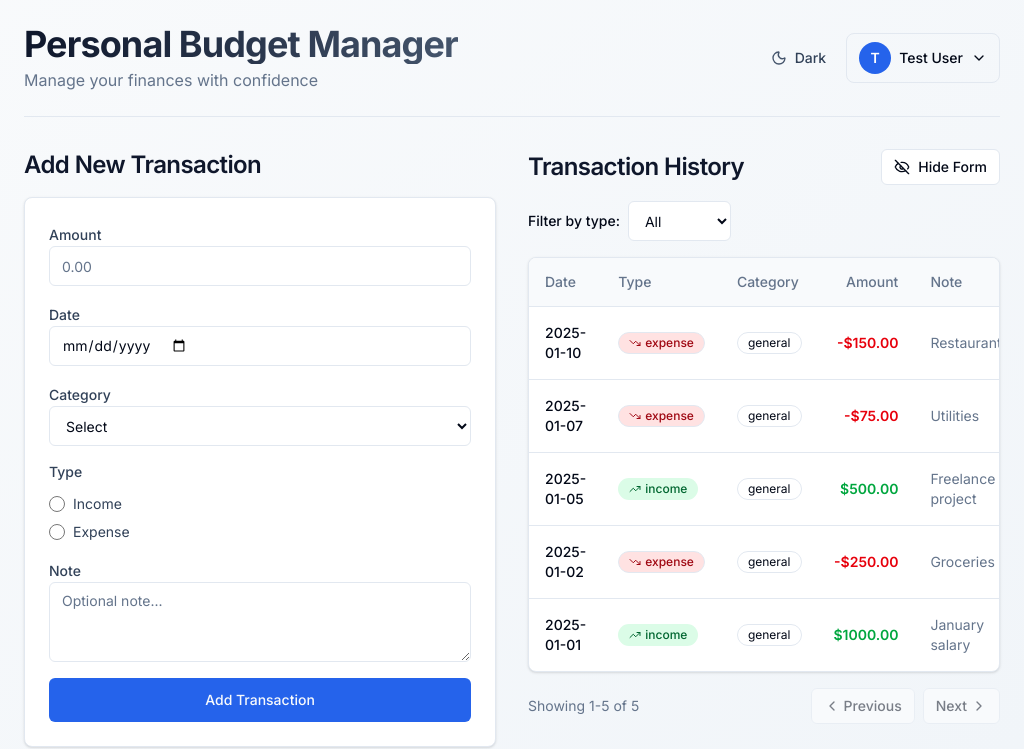
Test: TransactionManager › Authenticated state › form resets after successful submission
Expected: the text "Restaurant" is shown, [914,306,999,379]
Type "100" into the number field labelled "Amount" at point(260, 266), box [49,246,471,286]
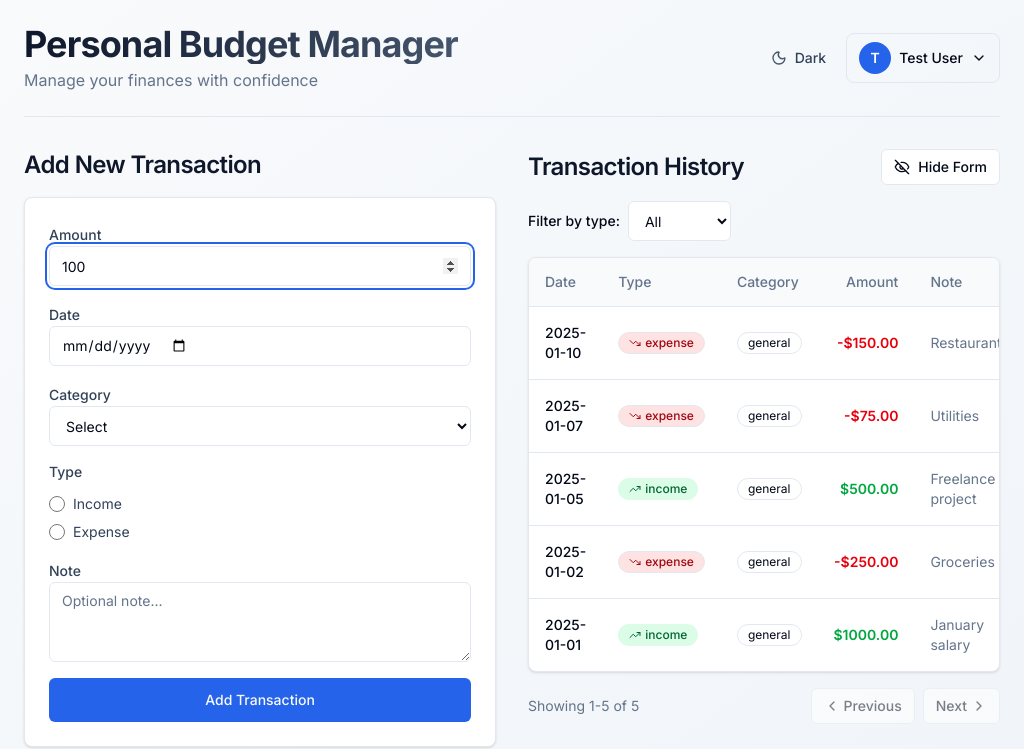
Type "2025-01-20" into the date field labelled "Date" at point(260, 346), box [49,326,471,366]
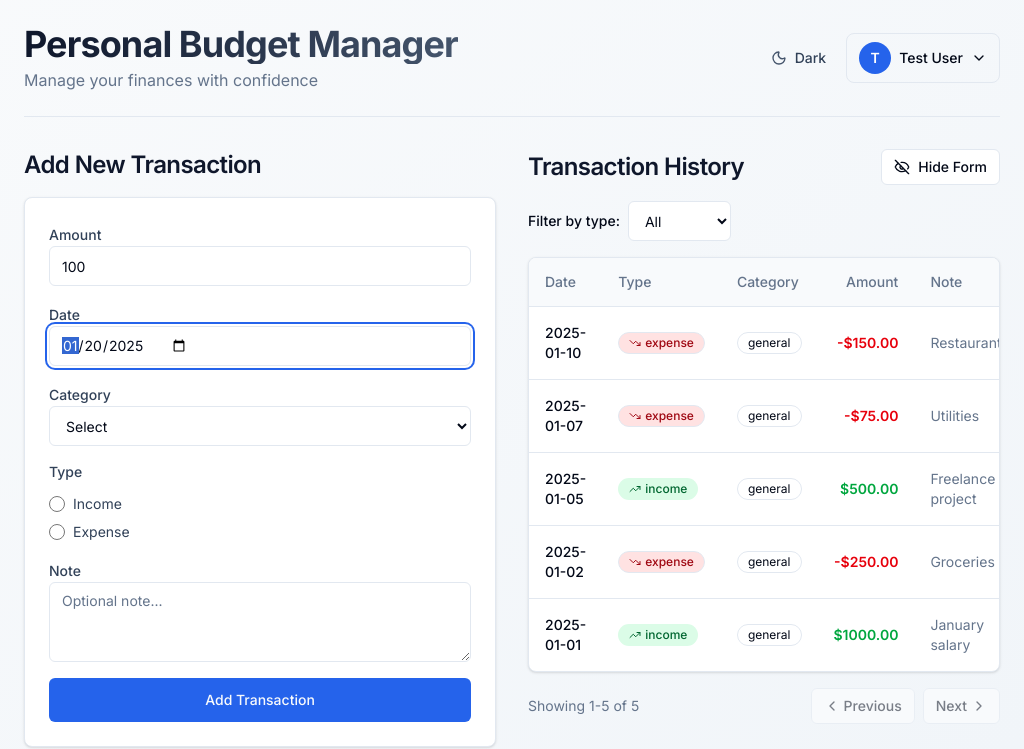
Select "General" in the dropdown labelled "Category" at point(260, 426), box [49,406,471,446]
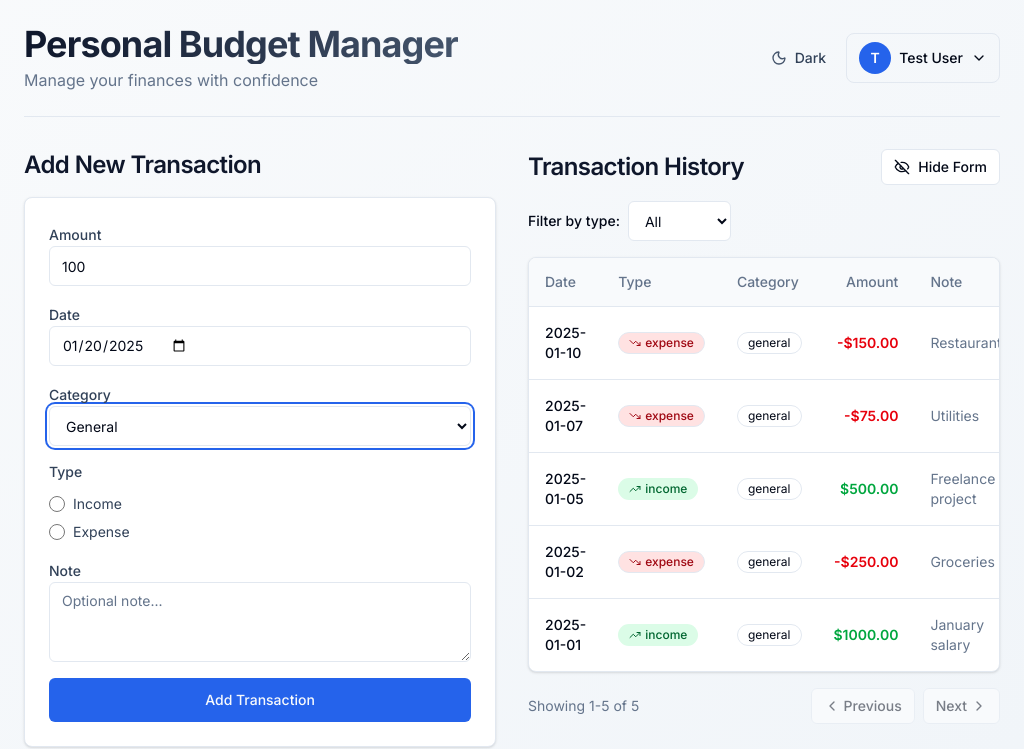
Click the radio button labelled "Income" at point(57, 504), box [49,496,65,512]
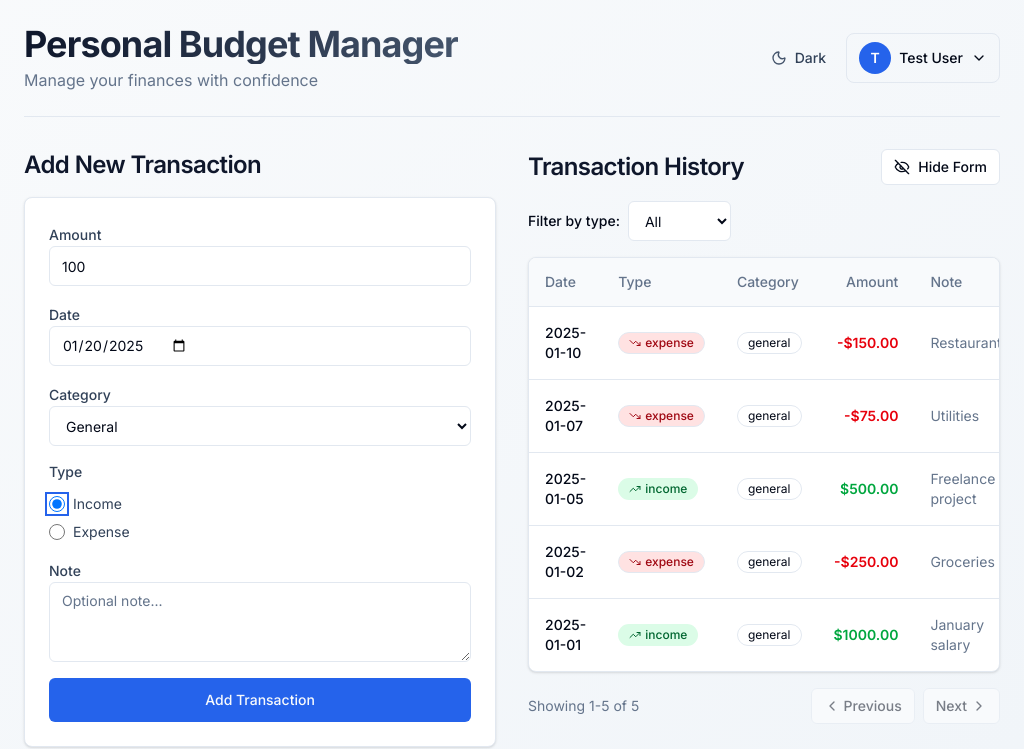
Type "Test transaction" into the text box labelled "Note" at point(260, 622), box [49,582,471,662]
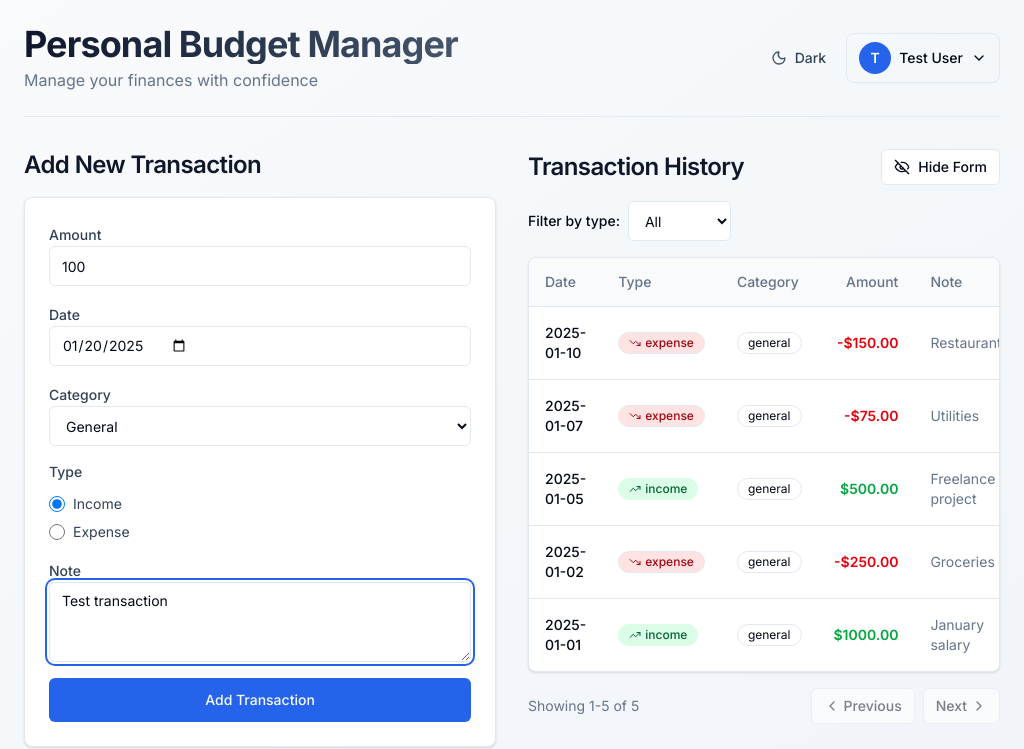
Click the button "Add Transaction" at point(260, 700), box [49,678,471,722]
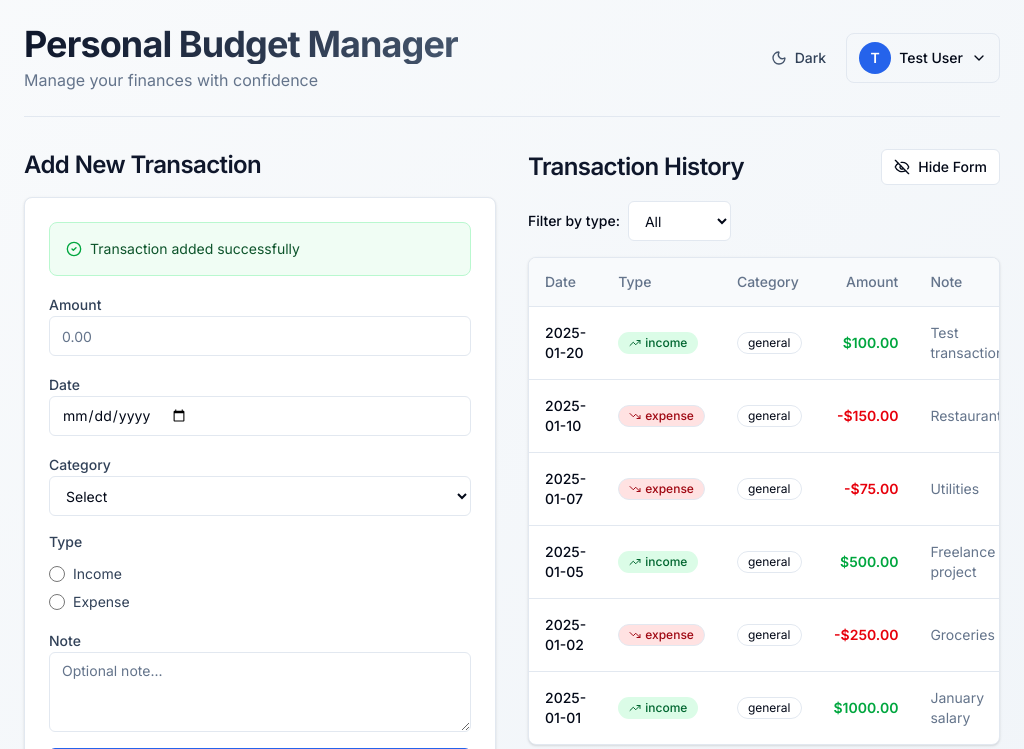
Result: the number field labelled "Amount" is not empty at [49,316,471,356]
Result: the date field labelled "Date" is empty at [49,396,471,436]
Result: the text box "Test transaction" is empty at [49,652,471,732]
